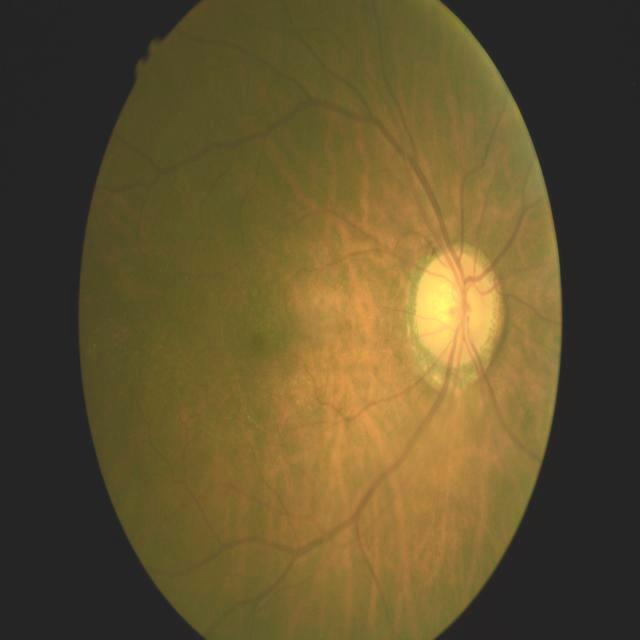cup: (432, 276, 482, 350)
disk: (415, 248, 504, 368)
